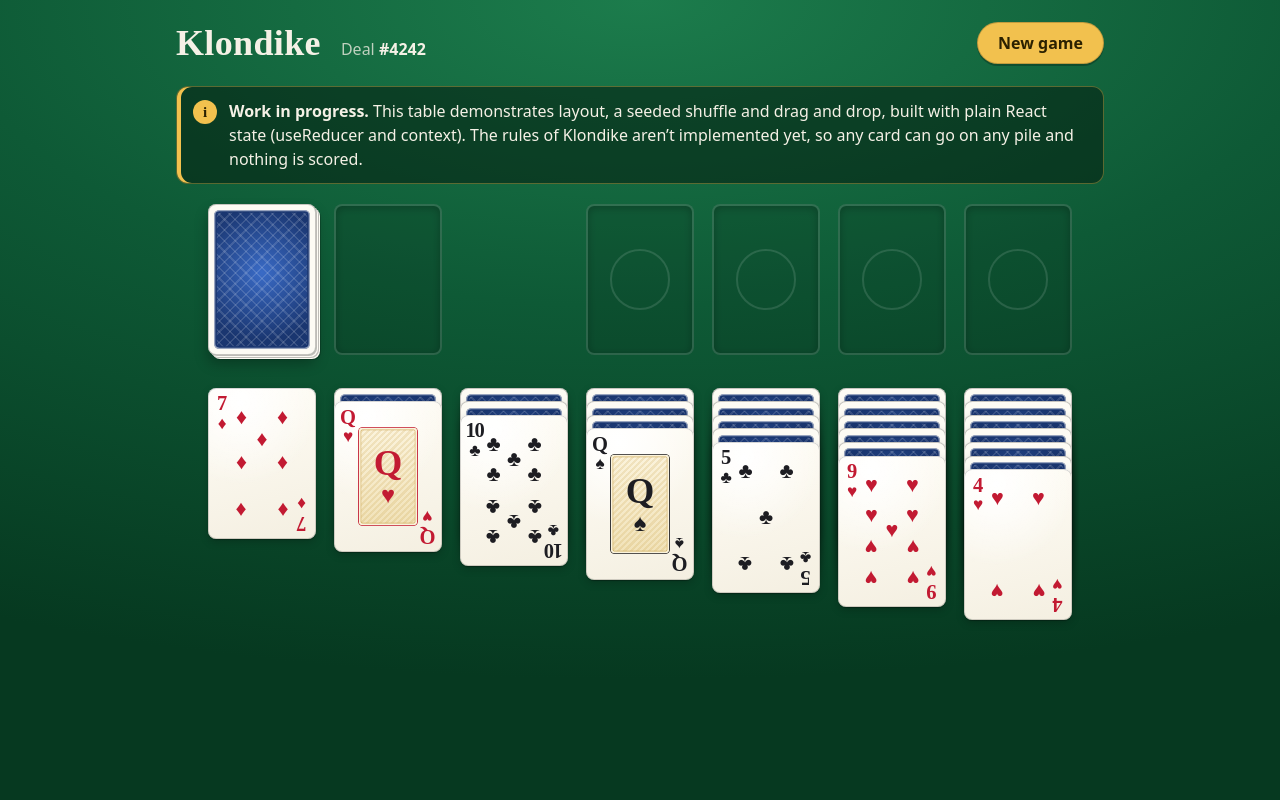
Test: App › deals a different, freshly numbered game on "New game"
Step 1. Click the button "10 ♣︎ ♣︎ ♣︎ ♣︎ ♣︎ ♣︎ ♣︎ ♣︎ ♣︎ ♣︎ ♣︎ 10 ♣︎" → {"x": 514, "y": 490}, box [460,415,568,566]
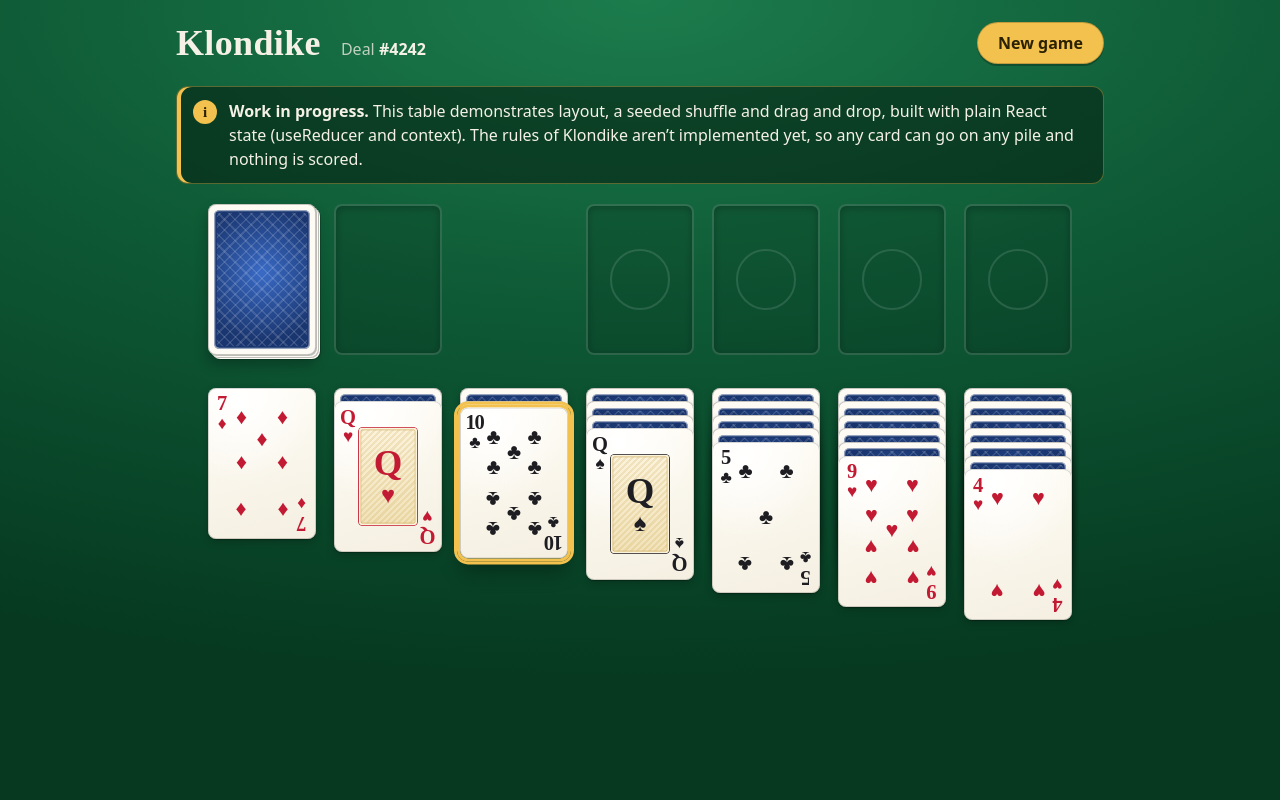
Step 2. Click the button "New game" → {"x": 1040, "y": 43}, box [977,22,1104,64]
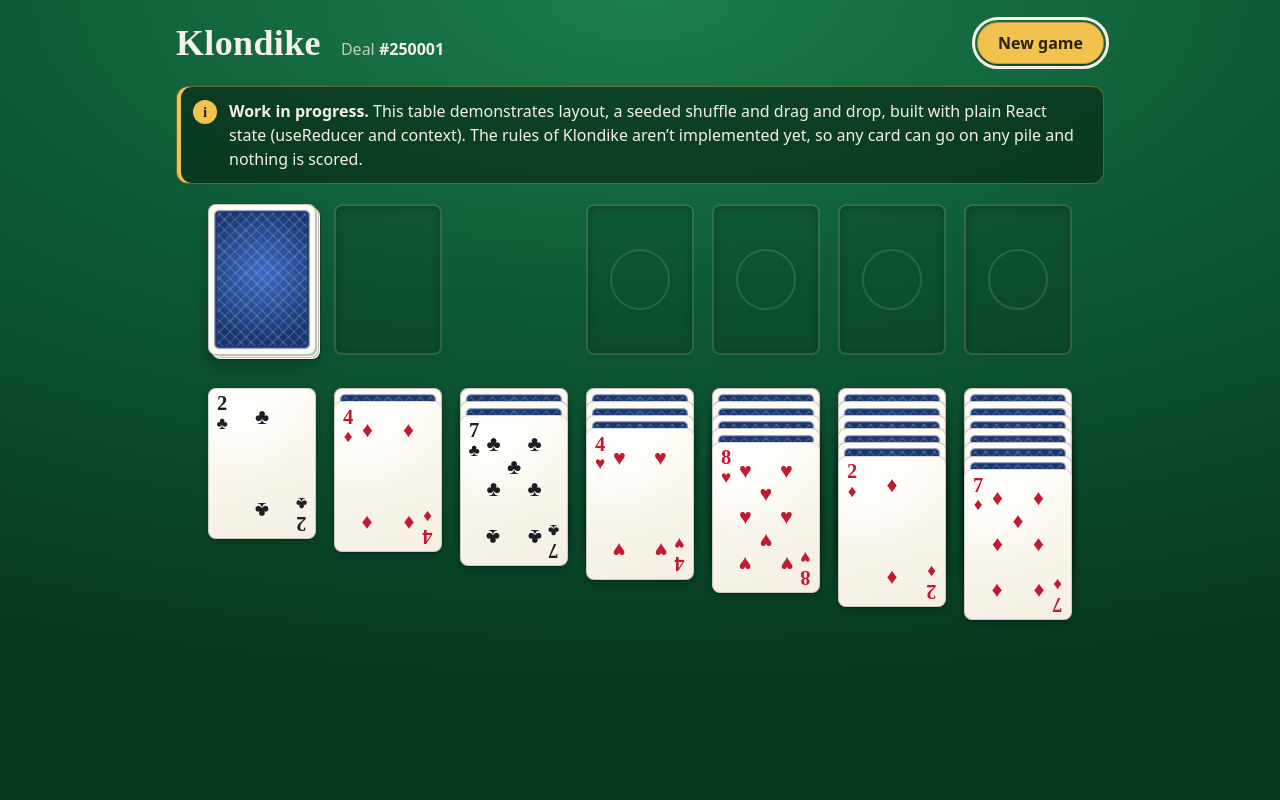
expect the text "#250001" is shown: met, box [379,38,444,60]
